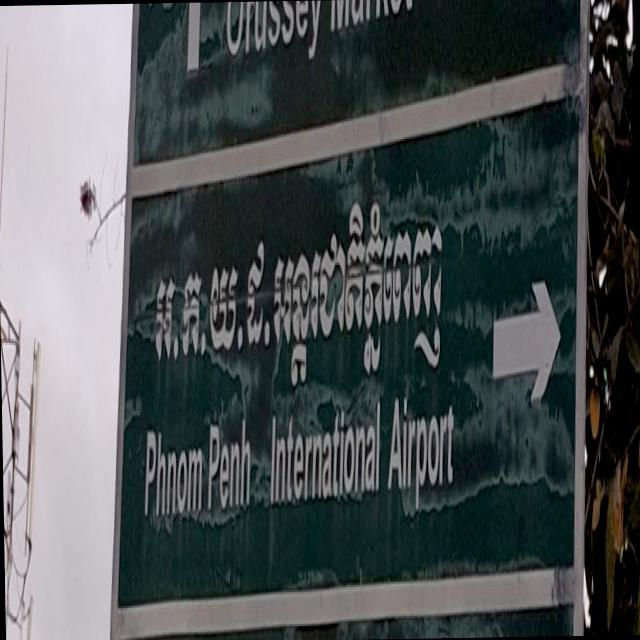Yolov11kh: (138, 178, 450, 399)
